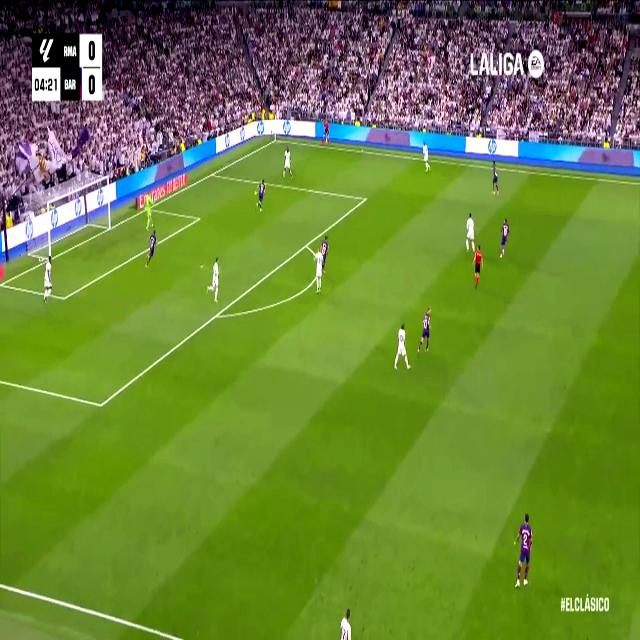bigarea_bottom_inner: (96, 392, 106, 417)
bigarea_top_inner: (362, 191, 368, 205)
bigarea_top_outter: (210, 168, 216, 179)
bottom_arc_area_intersection: (213, 307, 221, 322)
corner: (273, 136, 278, 143)
smallarea_bottom_inner: (59, 289, 68, 307)
smallarea_bottom_outter: (0, 273, 6, 292)
smallarea_top_inner: (196, 213, 200, 223)
top_arc_area_intersection: (302, 236, 310, 252)
